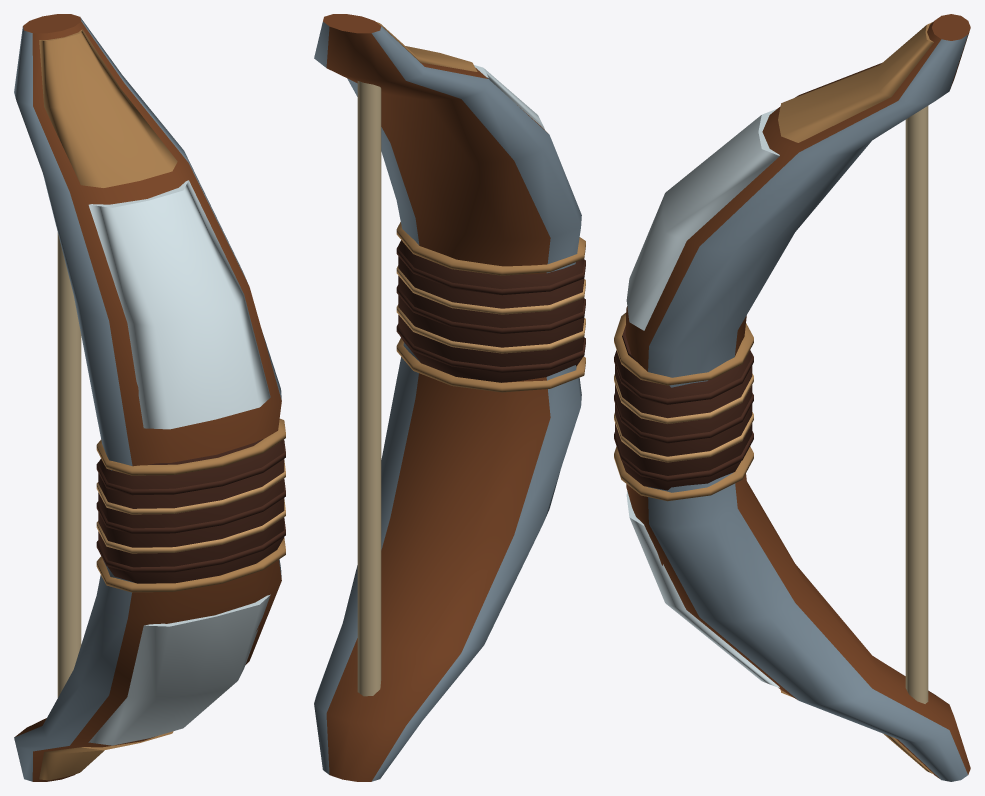
File: bow.glb
The picture shows the model from 3 angles, left to right: view 1: azimuth 30°, elevation 25°; view 2: azimuth 150°, elevation 25°; view 3: azimuth 270°, elevation 25°; orthographic projection.
Visible parts, largest first — view 1: Body, BowString; view 2: Body, BowString; view 3: Body, BowString.
Boxes of the visible parts, bbox=[...] form: Body: bbox=[14, 14, 285, 781]; BowString: bbox=[57, 232, 81, 697]; Body: bbox=[314, 14, 585, 781]; BowString: bbox=[357, 81, 381, 696]; Body: bbox=[614, 14, 970, 781]; BowString: bbox=[905, 106, 928, 703].
Bounding box in the file's own units: 0.119 × 0.4787 × 0.2089.
